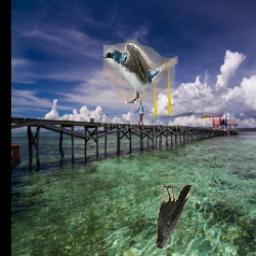Crow: (156, 186, 193, 250)
Swallow: (102, 41, 177, 104)
